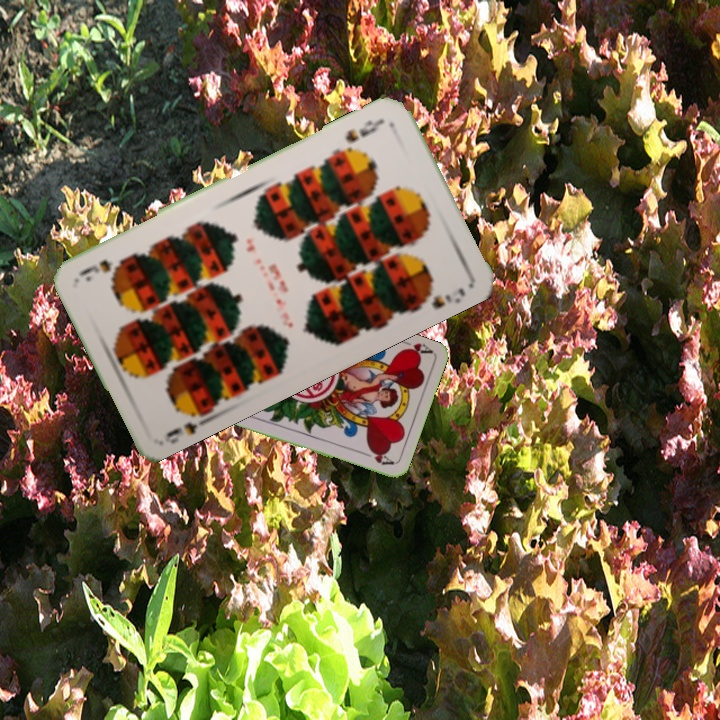HA: (394, 335, 434, 360)
S9: (161, 404, 213, 446), (341, 114, 387, 146)
